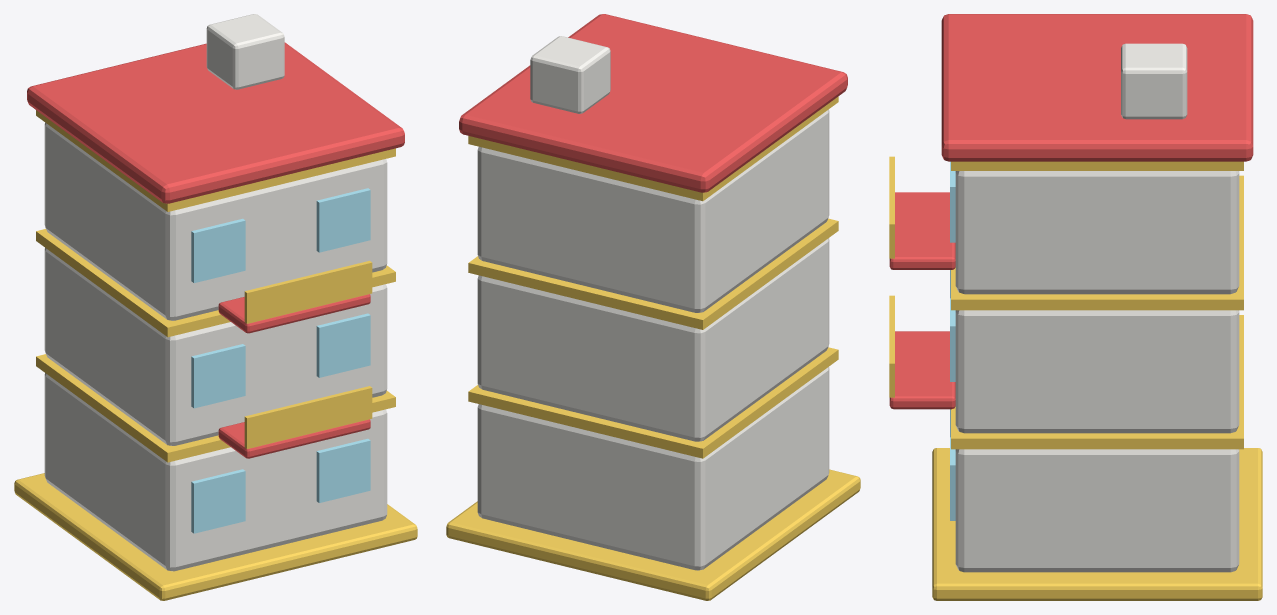
Rendered from Building_Tier2_Apartment.fbx.
The picture shows the model from 3 angles, left to right: view 1: azimuth 30°, elevation 25°; view 2: azimuth 150°, elevation 25°; view 3: azimuth 270°, elevation 25°; orthographic projection. The views are drawn at different scales.
Parts seen in each view (by area): view 1: Building_Tier2_Apartment; view 2: Building_Tier2_Apartment; view 3: Building_Tier2_Apartment.
Part boxes in pixels (x1,y1,x2,y2): Building_Tier2_Apartment: (14, 14, 417, 600); Building_Tier2_Apartment: (446, 14, 860, 600); Building_Tier2_Apartment: (889, 14, 1262, 600).
Size of the model in its own units: 0.7 by 1.19 by 0.791.
